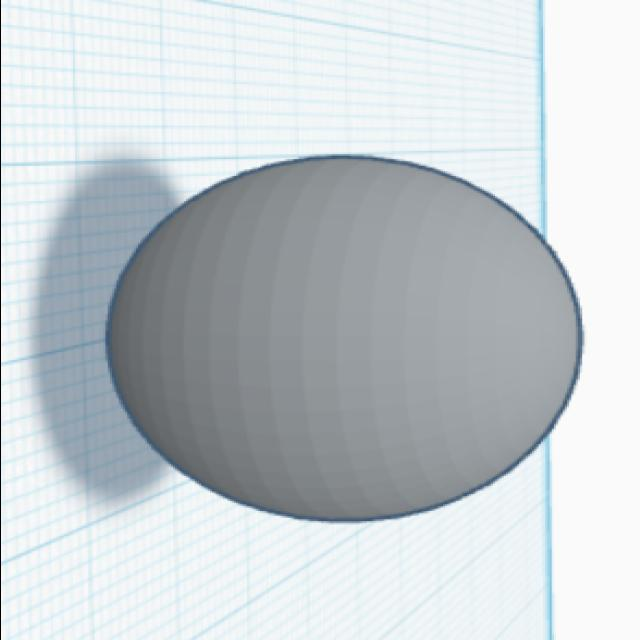sphere: (99, 152, 586, 526)
